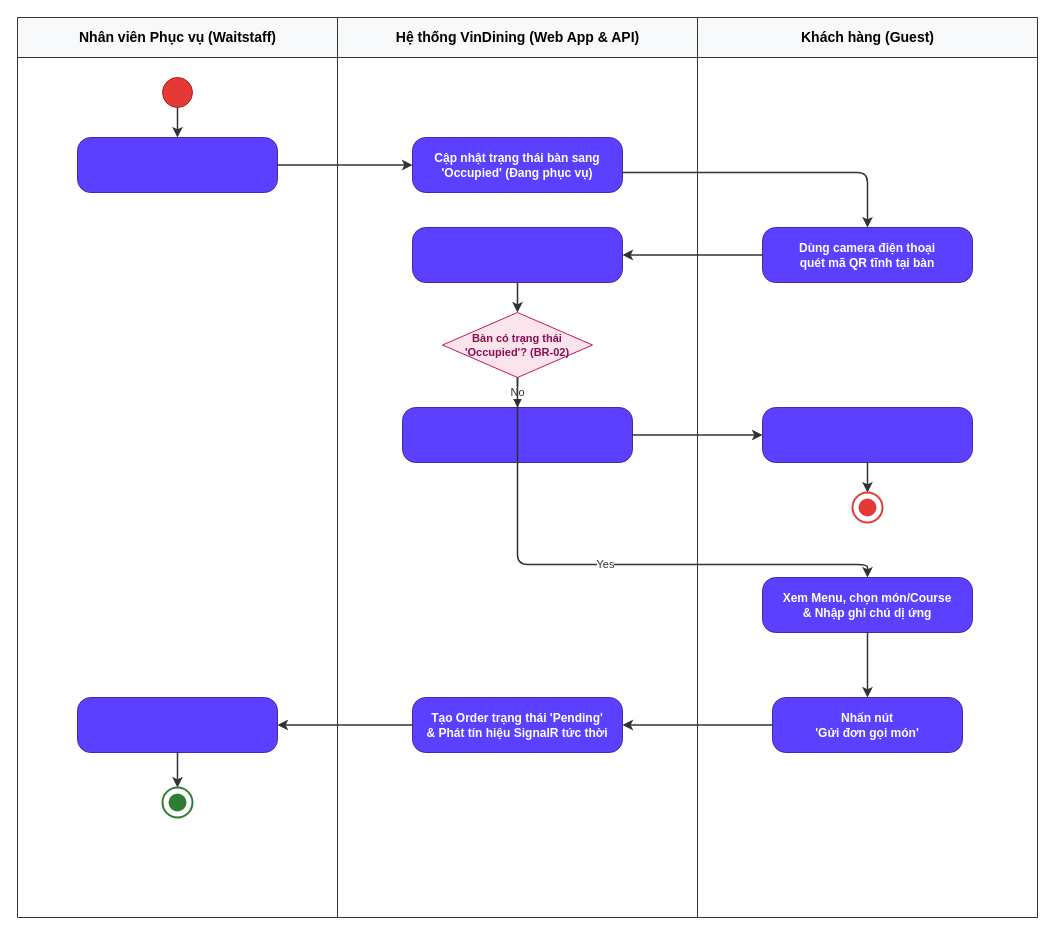
Image size: 1055x935. Some labels were removed from this diagram. Here are the shapes that lost their labels. From the top down, the box of each, then its label:
(76, 136, 278, 192): Dẫn khách vào bàn & Check-in trên Tablet di động
(412, 226, 622, 282): Mở liên kết Web E-Menu theo TableId gắn trên mã QR
(402, 406, 632, 462): Khóa tính năng gọi món & Báo khách liên hệ phục vụ check-in
(762, 406, 972, 462): Hiển thị thông báo bàn chưa được kích hoạt
(76, 696, 278, 752): Nhận thông báo rung SignalR có đơn gọi món mới
